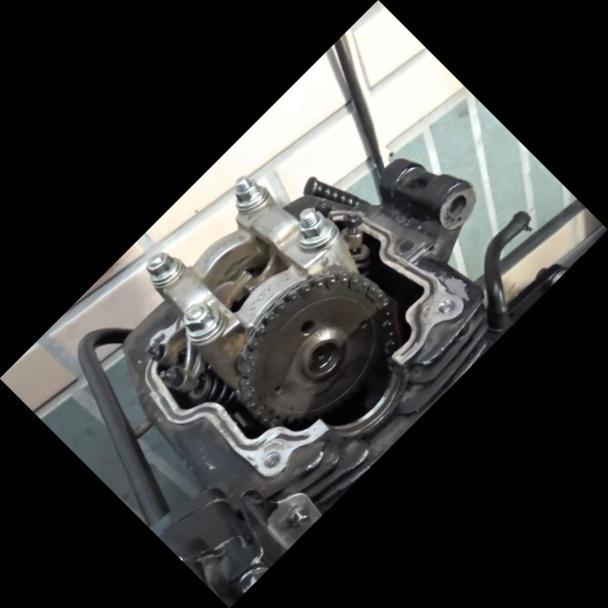hole: (260, 448, 283, 472), (435, 295, 458, 317)
